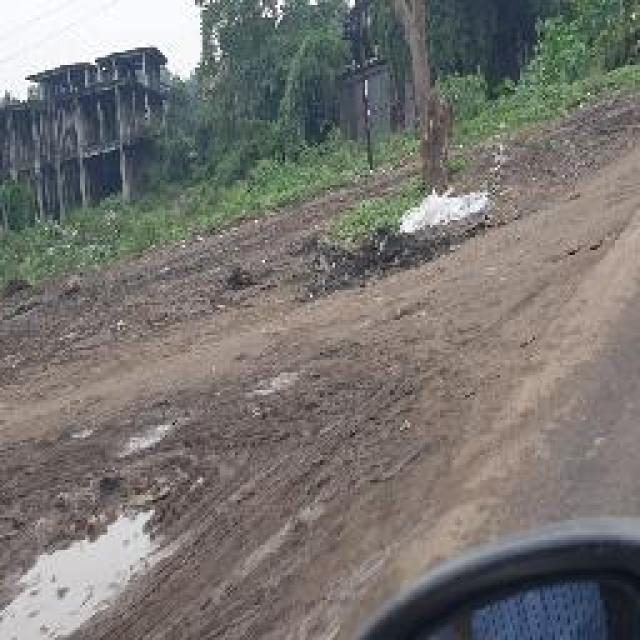stagnation: (0, 473, 172, 640)
